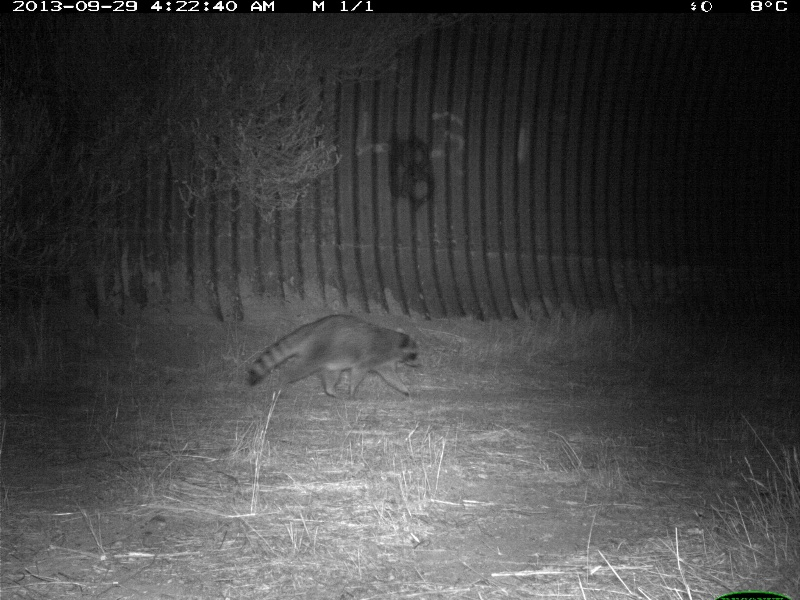raccoon: (244, 313, 424, 399)
